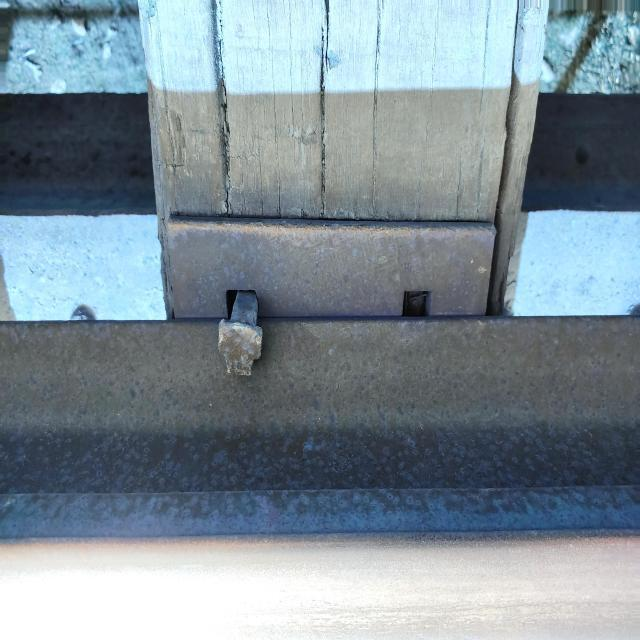Missing Dogscrew: (401, 288, 427, 316)
